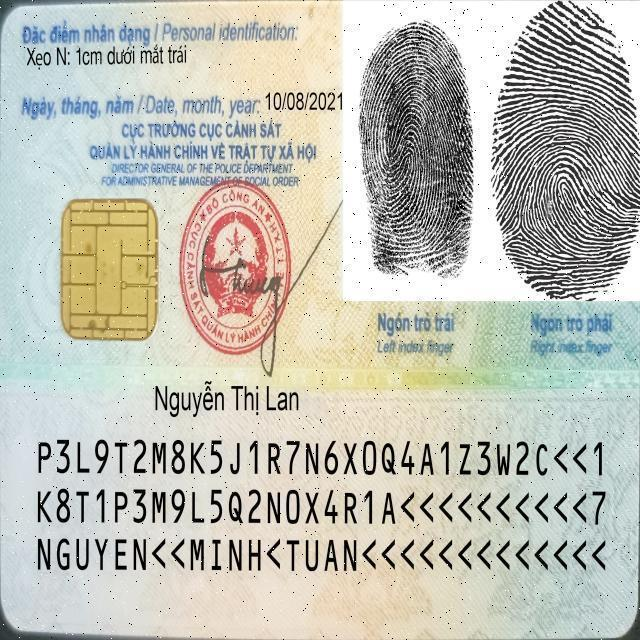features: (23, 38, 197, 70)
finger_print: (490, 4, 640, 367), (344, 2, 491, 368)
issue_date: (263, 87, 346, 118)
